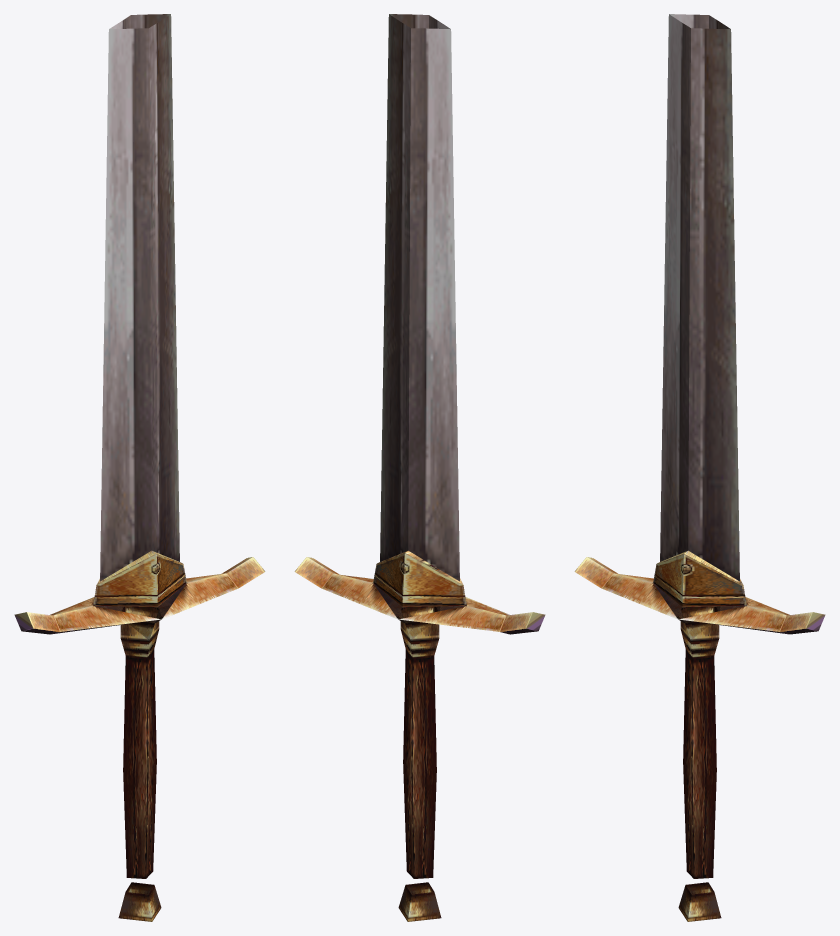
File: m_weapon001.FBX
The picture shows the model from 3 angles, left to right: view 1: azimuth 30°, elevation 25°; view 2: azimuth 150°, elevation 25°; view 3: azimuth 330°, elevation 25°; orthographic projection.
Parts seen in each view (by area): view 1: m_weapon001; view 2: m_weapon001; view 3: m_weapon001.
Boxes of the visible parts, x1,y1,x2,y2 form: m_weapon001: (14,14,265,921); m_weapon001: (294,14,545,921); m_weapon001: (574,14,825,921).
Size of the model in its own units: 0.7724 by 2.77 by 0.2478.
